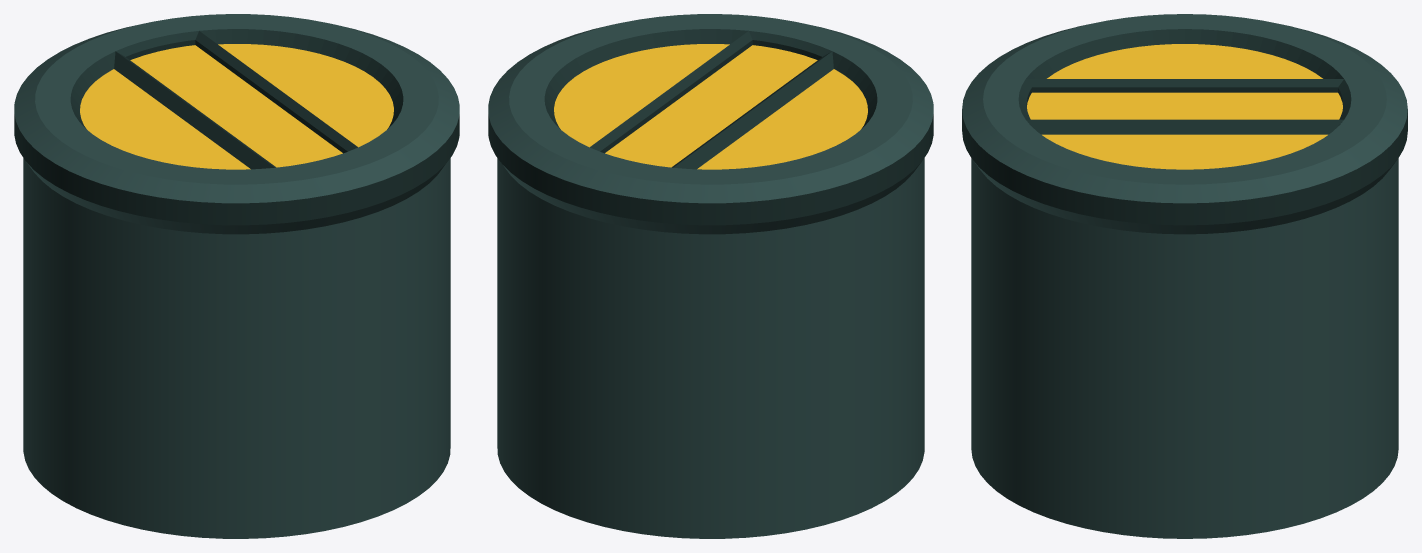
Rendered from SimonSays_Color_03.fbx.
3 views of the same model, side by side, from view 1: azimuth 30°, elevation 25°; view 2: azimuth 150°, elevation 25°; view 3: azimuth 270°, elevation 25° (orthographic).
Parts seen in each view (by area): view 1: SimonSays_Color_03; view 2: SimonSays_Color_03; view 3: SimonSays_Color_03.
Boxes of the visible parts, x1,y1,x2,y2 form: SimonSays_Color_03: (14, 14, 459, 538); SimonSays_Color_03: (488, 14, 933, 538); SimonSays_Color_03: (962, 14, 1407, 538).
Size of the model in its own units: 164 by 142 by 164.
